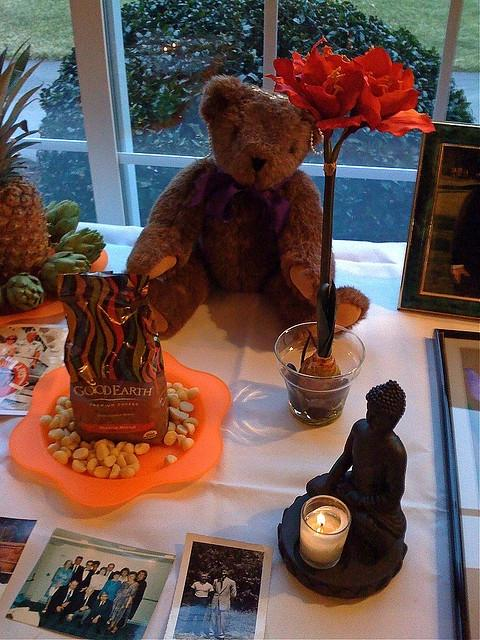pineapple: (1, 46, 52, 286)
